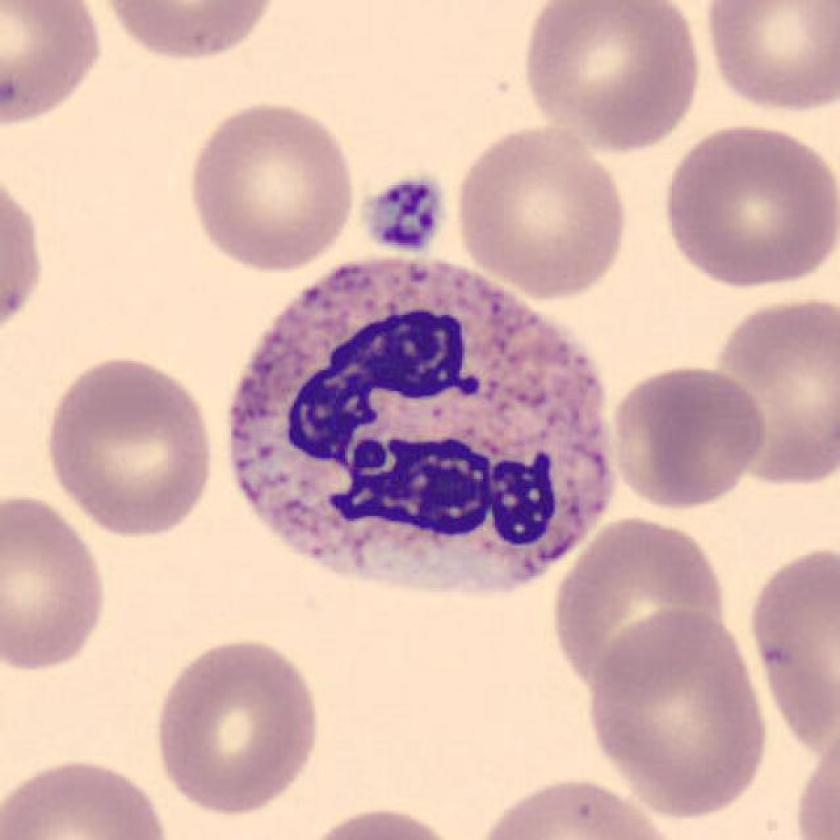neutrophil: (235, 261, 609, 597)
